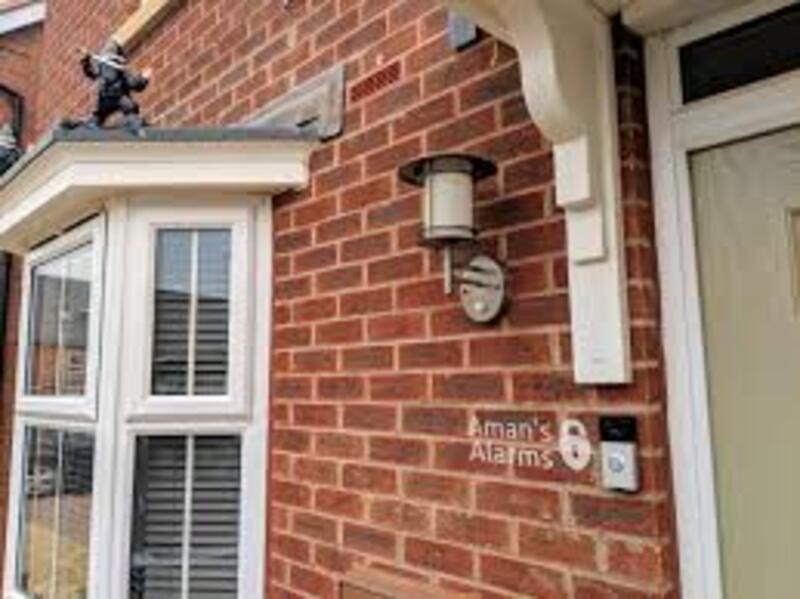doorbell: (593, 404, 647, 499)
